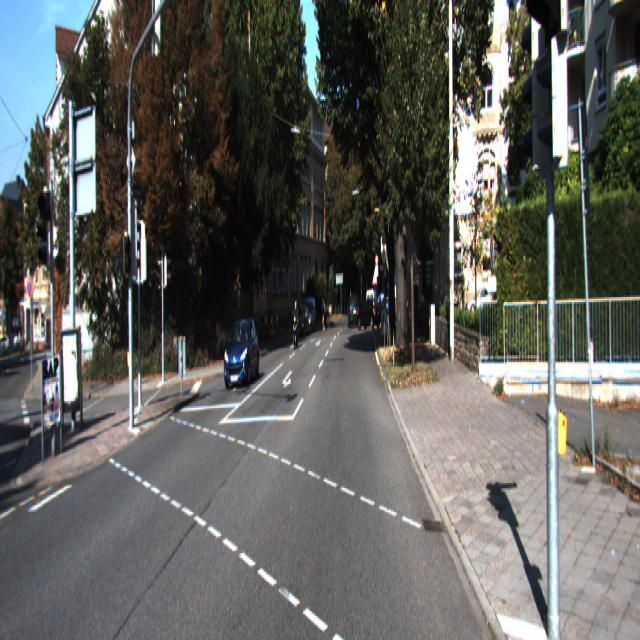Car: (222, 313, 260, 390), (293, 306, 310, 340), (291, 301, 301, 348)
